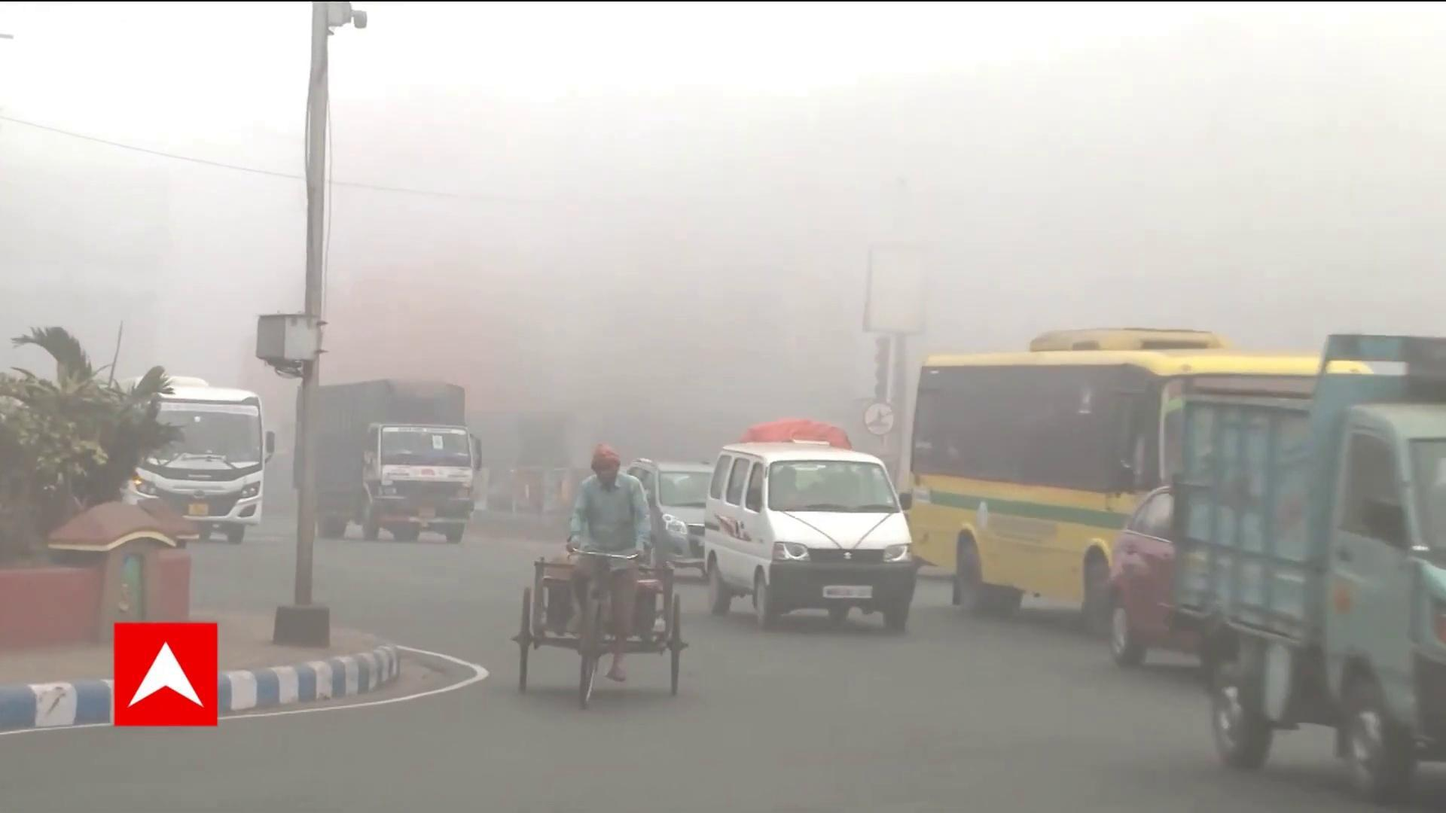Bus: (914, 317, 1322, 615), (122, 380, 272, 550)
Car: (700, 445, 921, 638)
Truck: (1161, 323, 1446, 761), (290, 377, 473, 537)
